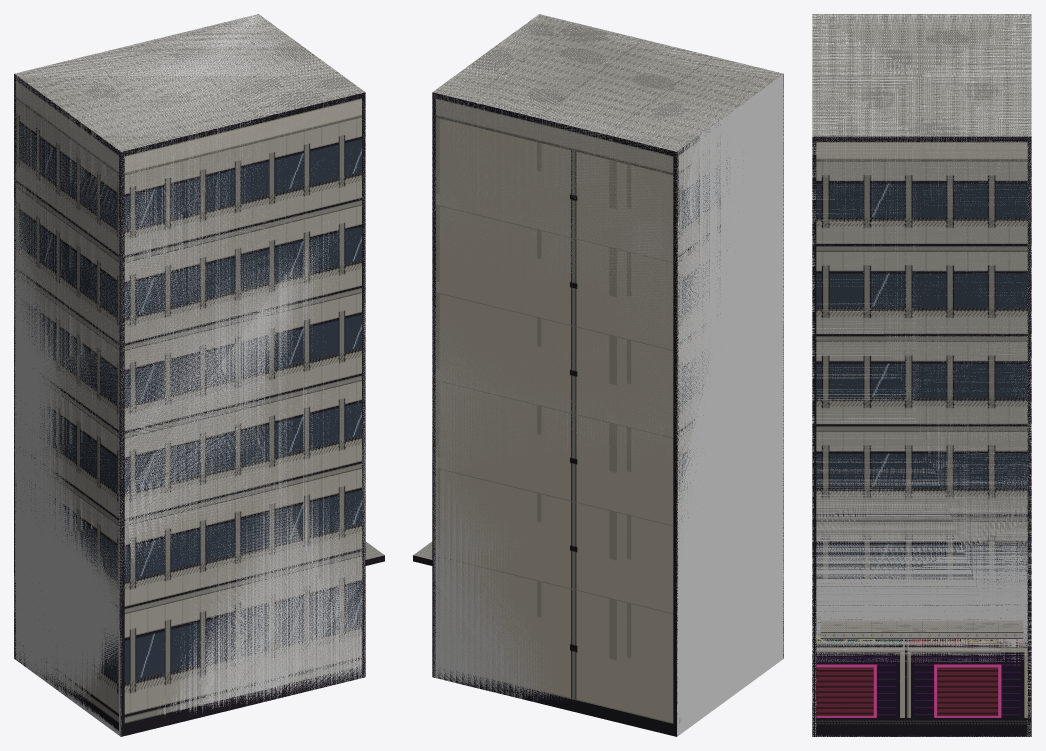
3 renders of one model, left to right at view 1: azimuth 30°, elevation 25°; view 2: azimuth 150°, elevation 25°; view 3: azimuth 270°, elevation 25°, orthographic. The views are drawn at different scales.
Parts seen in each view (by area): view 1: 19D-E09, COL_19D-E09_0; view 2: 19D-E09, COL_19D-E09_0; view 3: 19D-E09, COL_19D-E09_0.
Part boxes in pixels (box(x1,y1,x2,y2)): 19D-E09: box(14, 14, 384, 736); COL_19D-E09_0: box(14, 14, 365, 736); 19D-E09: box(413, 14, 783, 736); COL_19D-E09_0: box(432, 14, 783, 736); 19D-E09: box(812, 14, 1031, 736); COL_19D-E09_0: box(812, 14, 1031, 736).
Bounding box in the file's own units: 11.5 × 24 × 7.95.
1 material, 1 textured.
